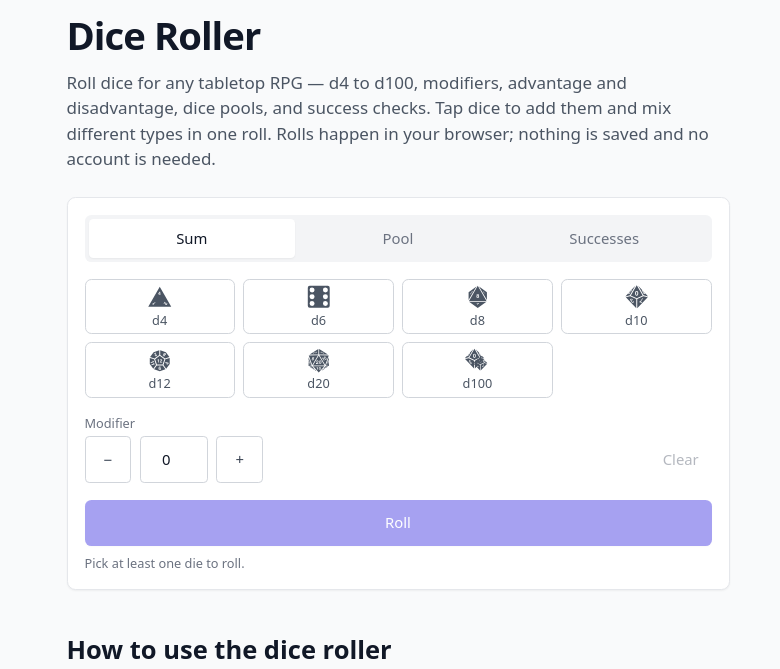
Test: DiceRollerPage › rolls client-side and shows the notation and total
Click the button "d20" at (319, 370), box left=243, top=342, right=394, bottom=398
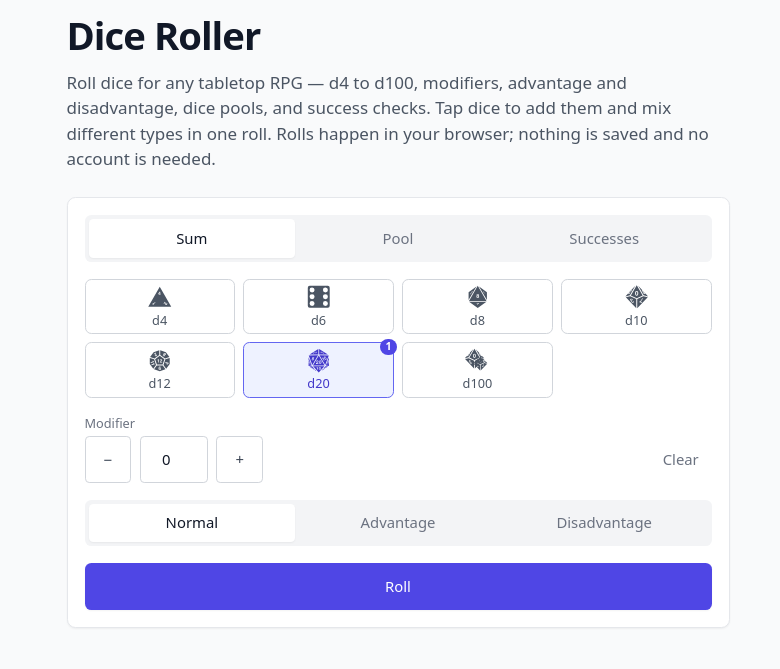
Click the button "Roll" at (398, 587), box left=84, top=563, right=712, bottom=610
(page scrolled)
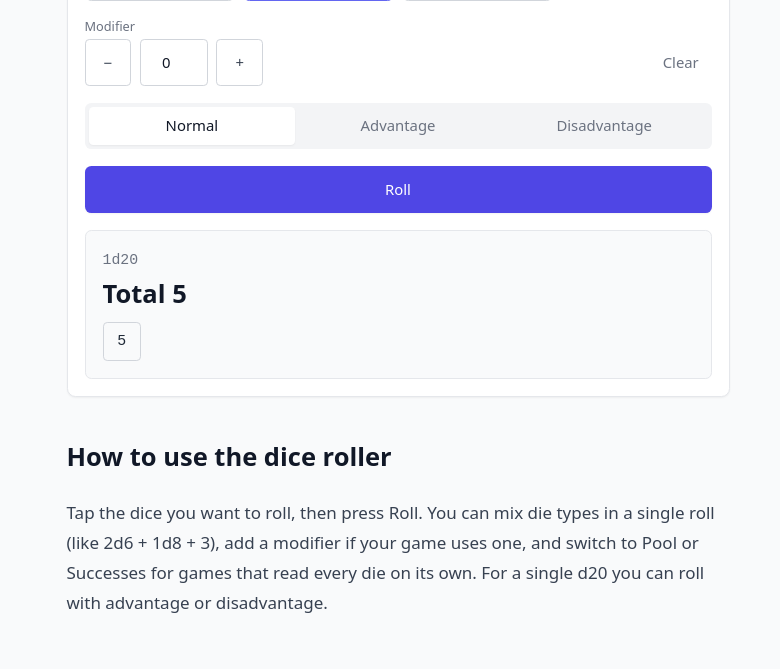
Expected: the text "1d20" is shown, left=102, top=252, right=138, bottom=268
Expected: the text "Total 5" is shown, left=102, top=276, right=187, bottom=310
